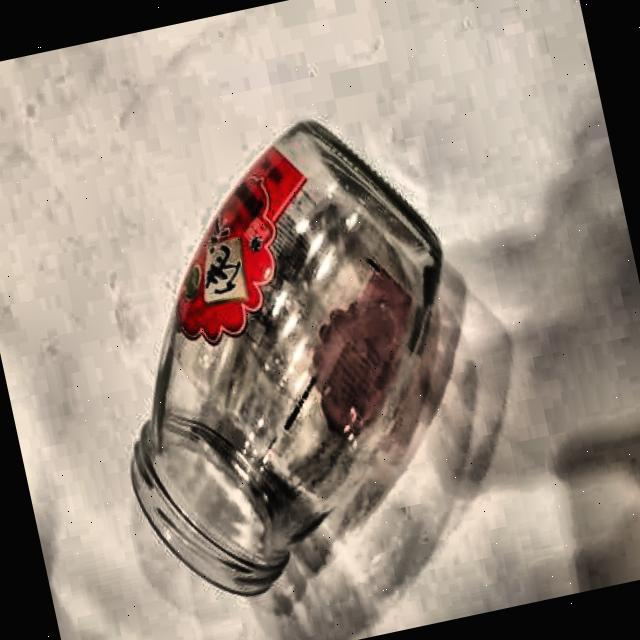glass: (62, 87, 507, 627)
